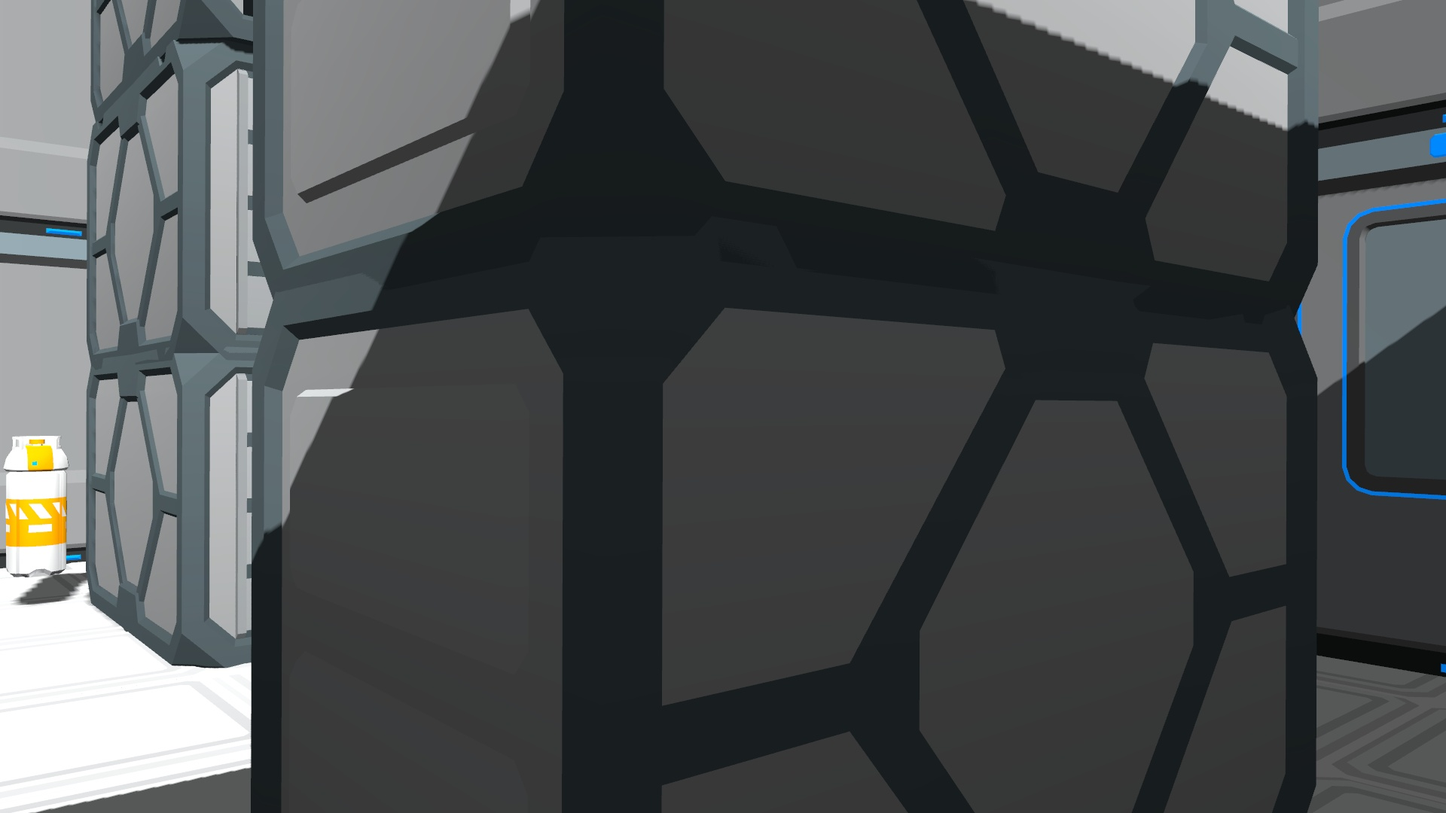yellow_barrel: (0, 432, 72, 578)
